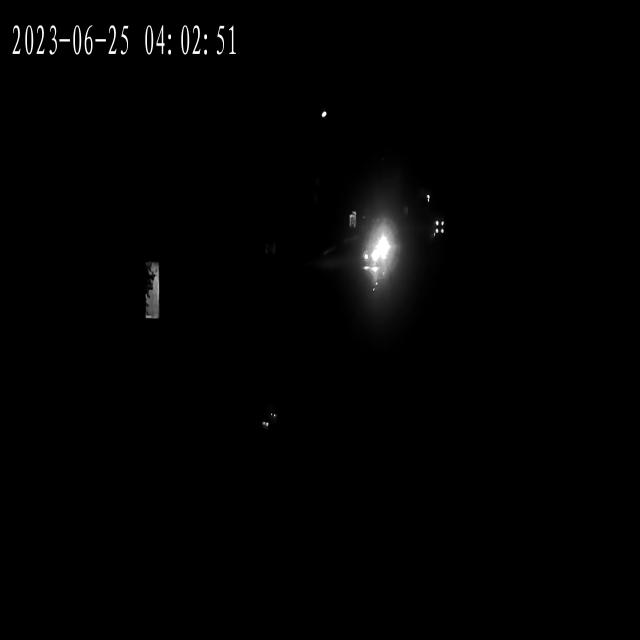Car: (361, 234, 393, 272), (359, 242, 391, 278)
